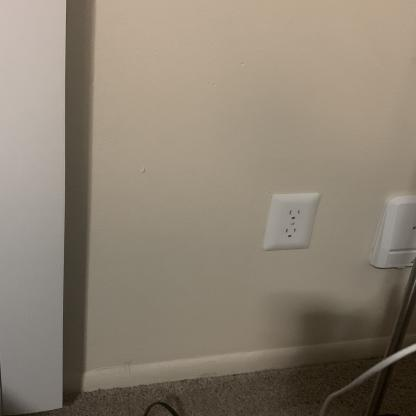OUTLET: (261, 192, 315, 252)
